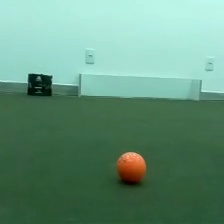ball: (113, 148, 148, 186)
goal: (76, 71, 204, 103)
robot: (25, 72, 53, 97)
